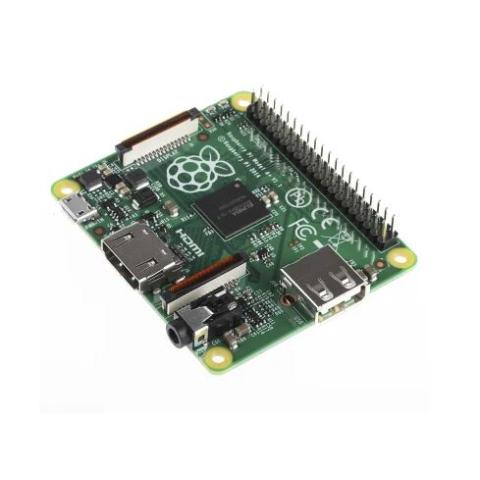Raspberry-Pi-1-Model-A-: (47, 80, 424, 388)
